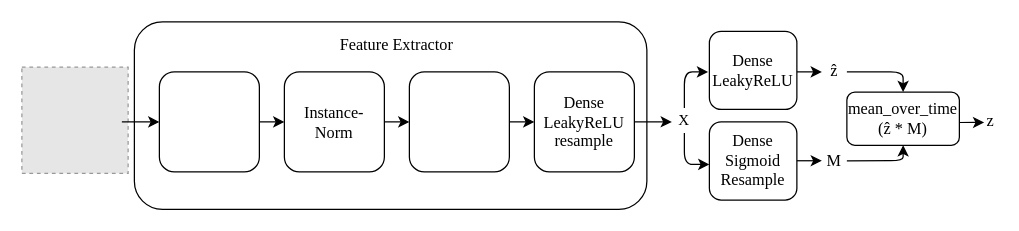
This 1019x231 diagram has some shape labels left out. Grey dashed boxes stand in for pictures. Each missing label, with the centre of its shape:
GRU 512 recurrent units: point (458, 121)
MFCC fft_size: 1024 overlap: 0.75: point (208, 121)
